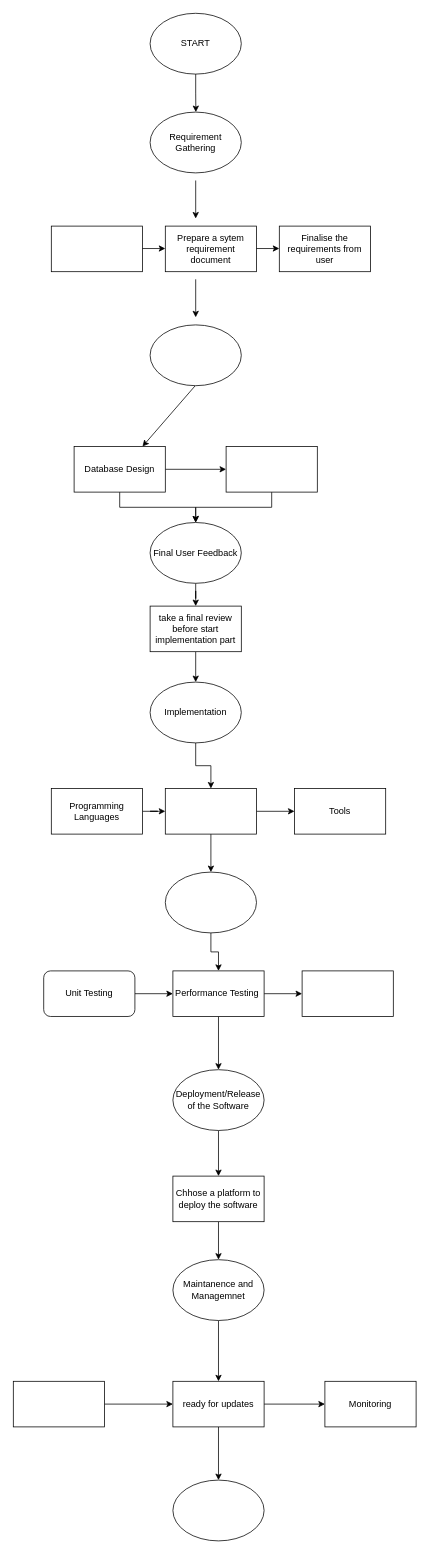
Some shapes in this 429 by 1554 pixel diagram are drawn without their labels. Here are the shapes that lost their labels. From the top down, the centre of each, then its label:
the point at 96,248: Take a input from user
the point at 195,355: System Design
the point at 271,469: UI Design
the point at 210,811: Frameworks
the point at 210,902: Testing the Software
the point at 347,993: User Acceptance Testing
the point at 58,1404: support for user for any types of problem in software
the point at 218,1510: END
